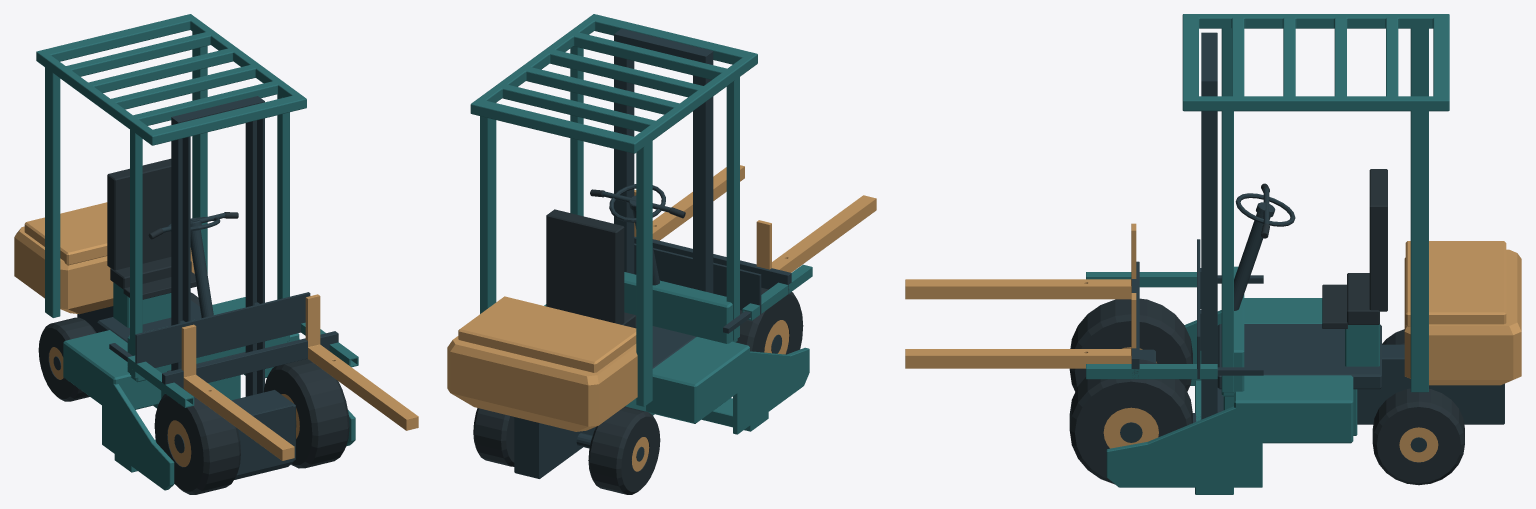
Rendered from forklift.glb.
The picture shows the model from 3 angles, left to right: view 1: azimuth 30°, elevation 25°; view 2: azimuth 150°, elevation 25°; view 3: azimuth 270°, elevation 25°; orthographic projection. The views are drawn at different scales.
Visible parts, largest first — view 1: forklift__batch_01, forklift__batch_00, forklift__batch_02, forklift__batch_23, forklift__batch_03, forklift__batch_22, forklift__batch_19, forklift__batch_05, forklift__batch_06, forklift__batch_04, forklift__batch_11, forklift__batch_08 (+2 smaller); view 2: forklift__batch_01, forklift__batch_02, forklift__batch_00, forklift__batch_23, forklift__batch_11, forklift__batch_05, forklift__batch_03, forklift__batch_19, forklift__batch_14, forklift__batch_04, forklift__batch_06, forklift__batch_08 (+2 smaller); view 3: forklift__batch_01, forklift__batch_00, forklift__batch_02, forklift__batch_22, forklift__batch_14, forklift__batch_19, forklift__batch_23, forklift__batch_05, forklift__batch_06, forklift__batch_08, forklift__batch_21, forklift__batch_04 (+2 smaller).
Part boxes in pixels (x1,y1,x2,y2): forklift__batch_01: (36, 14, 355, 490); forklift__batch_00: (77, 96, 296, 479); forklift__batch_02: (14, 202, 194, 314); forklift__batch_23: (107, 158, 196, 299); forklift__batch_03: (135, 292, 310, 367); forklift__batch_22: (263, 358, 349, 468); forklift__batch_19: (154, 389, 240, 494); forklift__batch_05: (181, 324, 294, 460); forklift__batch_06: (305, 294, 418, 430); forklift__batch_04: (109, 331, 338, 388); forklift__batch_11: (38, 317, 96, 401); forklift__batch_08: (127, 322, 358, 407); forklift__batch_01: (470, 14, 809, 434); forklift__batch_02: (447, 296, 637, 431); forklift__batch_00: (514, 28, 713, 478); forklift__batch_23: (546, 209, 636, 328); forklift__batch_11: (588, 406, 660, 494); forklift__batch_05: (756, 195, 876, 272); forklift__batch_03: (634, 243, 761, 314); forklift__batch_19: (736, 288, 803, 354); forklift__batch_14: (473, 408, 514, 466); forklift__batch_04: (634, 236, 791, 333); forklift__batch_06: (634, 165, 744, 240); forklift__batch_08: (742, 264, 812, 320); forklift__batch_01: (1106, 14, 1449, 494); forklift__batch_00: (1139, 32, 1504, 424); forklift__batch_02: (1404, 241, 1521, 385); forklift__batch_22: (1069, 359, 1192, 484); forklift__batch_14: (1372, 388, 1464, 485); forklift__batch_19: (1069, 298, 1192, 391); forklift__batch_23: (1322, 169, 1387, 328); forklift__batch_05: (905, 223, 1136, 299); forklift__batch_06: (905, 293, 1136, 368); forklift__batch_08: (1086, 272, 1217, 379); forklift__batch_21: (1103, 407, 1158, 448); forklift__batch_04: (1131, 261, 1263, 376).
Bounding box in the file's own units: 1.2 × 2.1 × 3.
